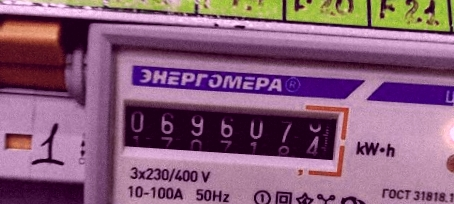0: (127, 107, 145, 132), (247, 113, 263, 139)
4: (303, 132, 320, 157)
6: (157, 109, 175, 134), (217, 112, 235, 137)
7: (276, 117, 293, 144)
9: (187, 111, 204, 136)
screen: (106, 84, 352, 174)
